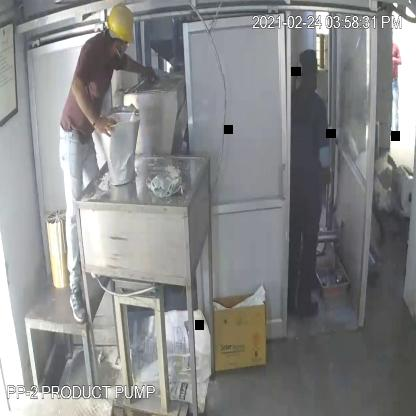helmet: (104, 0, 139, 46)
